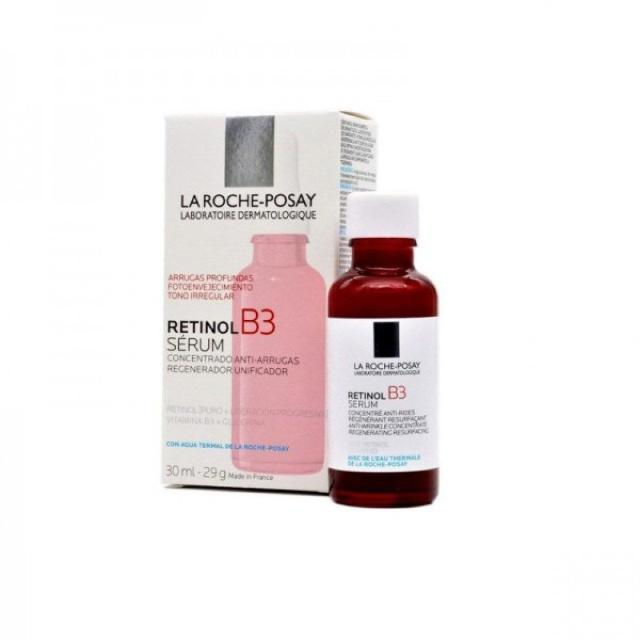cosmotic: (164, 116, 328, 490)
medicine: (337, 276, 434, 502)
